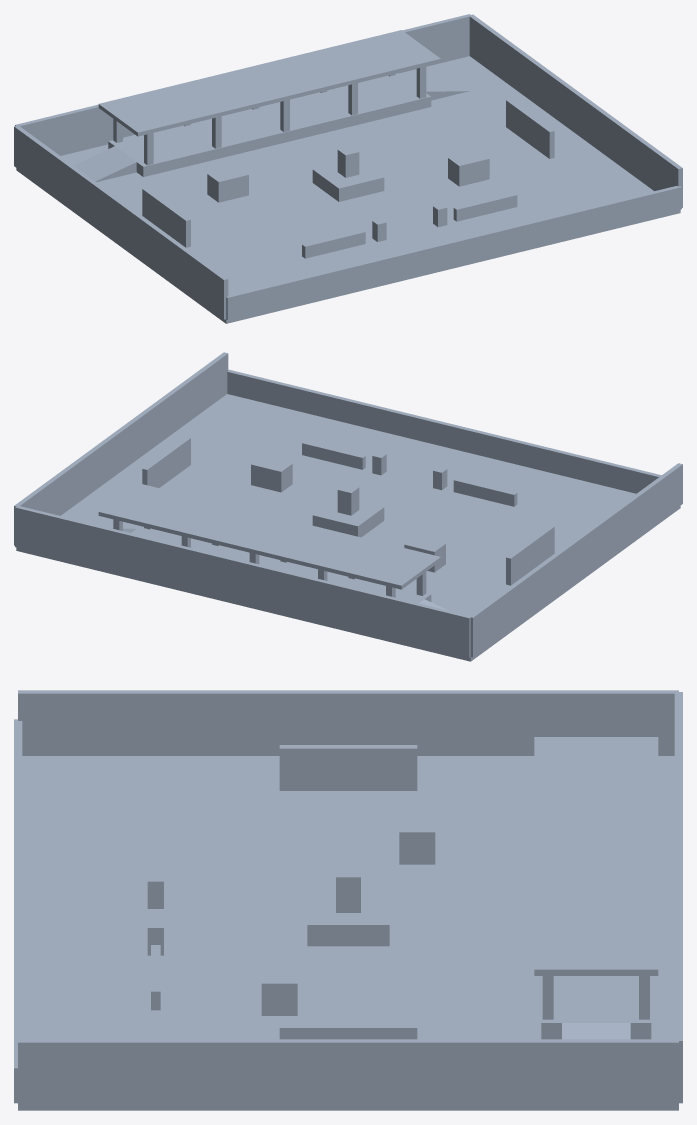
File: frostcourt_collision.glb
3 views of the same model, one above another, from view 1: azimuth 30°, elevation 25°; view 2: azimuth 150°, elevation 25°; view 3: azimuth 270°, elevation 25° (orthographic). The views are drawn at different scales.
Visible parts, largest first — view 1: COL_court_floor, COL_arcade_roof, COL_boundary_z_24, COL_arcade_terrace, COL_boundary_x_-30, COL_boundary_x_30, COL_boundary_z_-24, COL_fountain_plinth, COL_spawn_screen_east, COL_spawn_screen_west, COL_terrace_ramp_-1, COL_supply_wagon_1 (+5 smaller); view 2: COL_court_floor, COL_boundary_z_-24, COL_arcade_roof, COL_boundary_z_24, COL_boundary_x_-30, COL_boundary_x_30, COL_arcade_terrace, COL_fountain_plinth, COL_spawn_screen_west, COL_spawn_screen_east, COL_supply_wagon_1, COL_park_low_wall_-1 (+3 smaller); view 3: COL_court_floor, COL_boundary_x_30, COL_boundary_x_-30, COL_arcade_roof, COL_spawn_screen_west, COL_arcade_terrace, COL_fountain_plinth, COL_boundary_z_-24, COL_boundary_z_24, COL_spawn_screen_east, COL_supply_wagon_-1, COL_supply_wagon_1 (+3 smaller).
Part boxes in pixels (x1,y1,x2,y2): COL_court_floor: (16,56,680,323); COL_arcade_roof: (98,30,440,136); COL_boundary_z_24: (226,186,681,319); COL_arcade_terrace: (108,73,431,176); COL_boundary_x_-30: (14,125,228,319); COL_boundary_x_30: (469,14,682,207); COL_boundary_z_-24: (15,14,470,155); COL_fountain_plinth: (312,159,384,201); COL_spawn_screen_east: (506,99,554,158); COL_spawn_screen_west: (142,188,190,247); COL_terrace_ramp_-1: (74,146,136,181); COL_supply_wagon_1: (448,150,489,186); COL_court_floor: (16,394,680,661); COL_boundary_z_-24: (15,506,470,657); COL_arcade_roof: (98,483,440,589); COL_boundary_z_24: (227,369,661,493); COL_boundary_x_-30: (469,463,682,657); COL_boundary_x_30: (14,352,228,545); COL_arcade_terrace: (131,526,431,603); COL_fountain_plinth: (312,497,384,537); COL_spawn_screen_west: (506,525,554,585); COL_spawn_screen_east: (142,437,190,487); COL_supply_wagon_1: (251,456,292,492); COL_park_low_wall_-1: (453,478,517,506); COL_court_floor: (18,756,678,1110); COL_boundary_x_30: (18,1039,678,1104); COL_boundary_x_-30: (18,690,678,755); COL_arcade_roof: (534,737,658,975); COL_spawn_screen_west: (279,745,417,790); COL_arcade_terrace: (541,976,651,1039); COL_fountain_plinth: (307,890,389,946); COL_boundary_z_-24: (674,692,682,1103); COL_boundary_z_24: (14,719,22,1103); COL_spawn_screen_east: (279,1024,417,1039); COL_supply_wagon_-1: (399,809,435,864); COL_supply_wagon_1: (261,960,297,1015).
Size of the model in its own units: 60.6 by 6.65 by 48.6.
